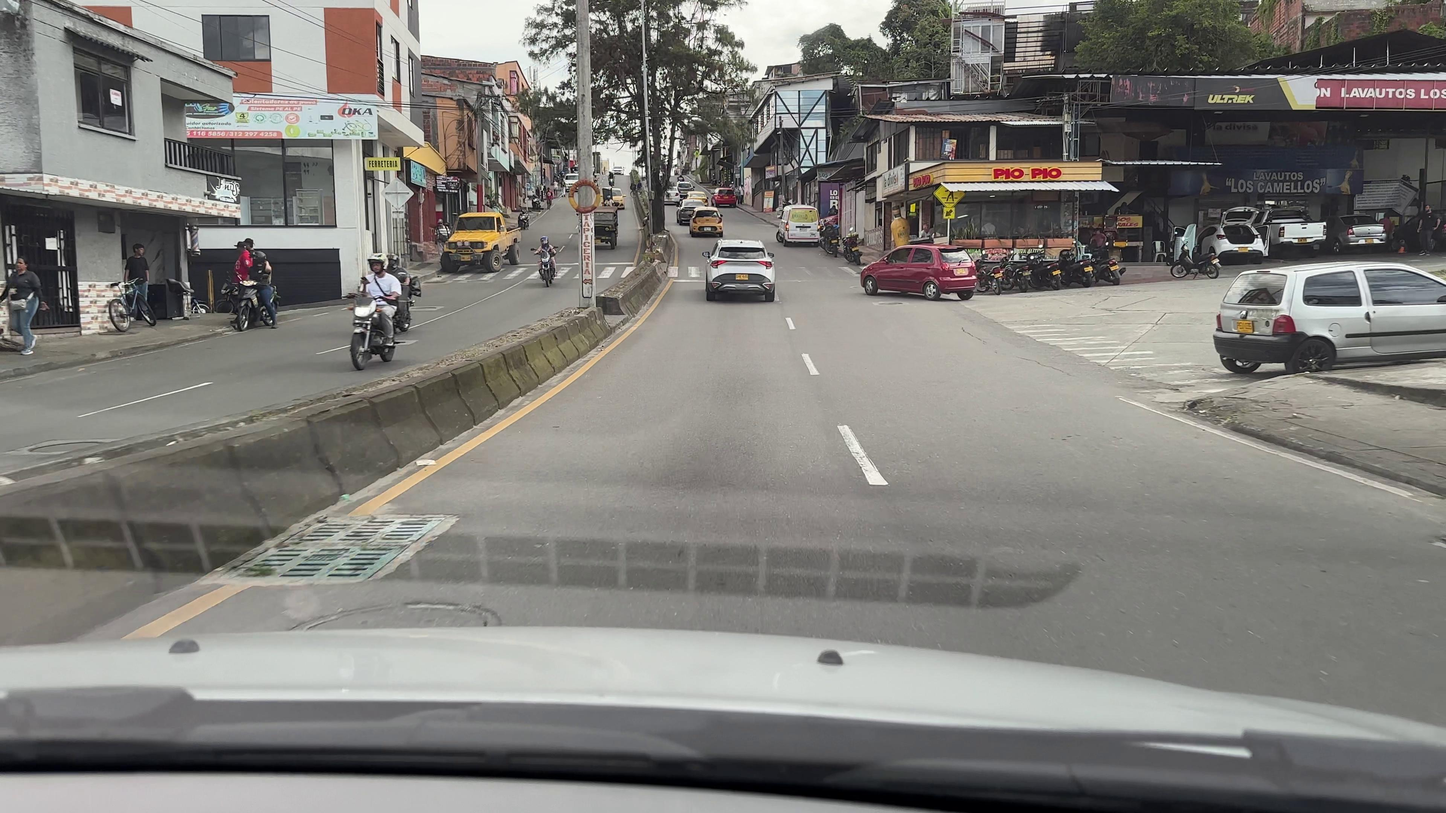registro: (306, 606, 487, 630)
rejilla: (220, 516, 445, 582)
